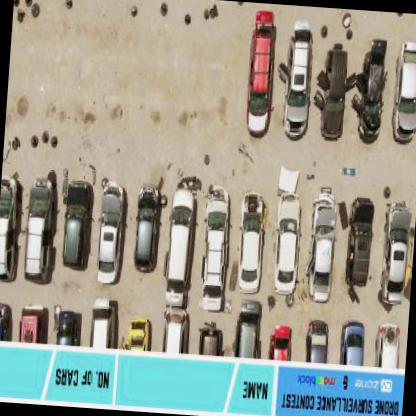car: (246, 12, 279, 139), (304, 187, 338, 302), (198, 190, 230, 311), (284, 19, 316, 138), (355, 39, 390, 145), (59, 172, 94, 271), (345, 196, 375, 303), (271, 194, 302, 297), (96, 179, 126, 284), (234, 195, 265, 294), (23, 176, 52, 281), (0, 173, 27, 281), (320, 47, 350, 141), (132, 181, 162, 272), (391, 42, 415, 145), (234, 300, 262, 358), (306, 322, 328, 362)
